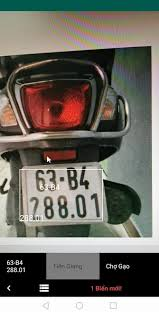Bien-so: (21, 162, 107, 227)
